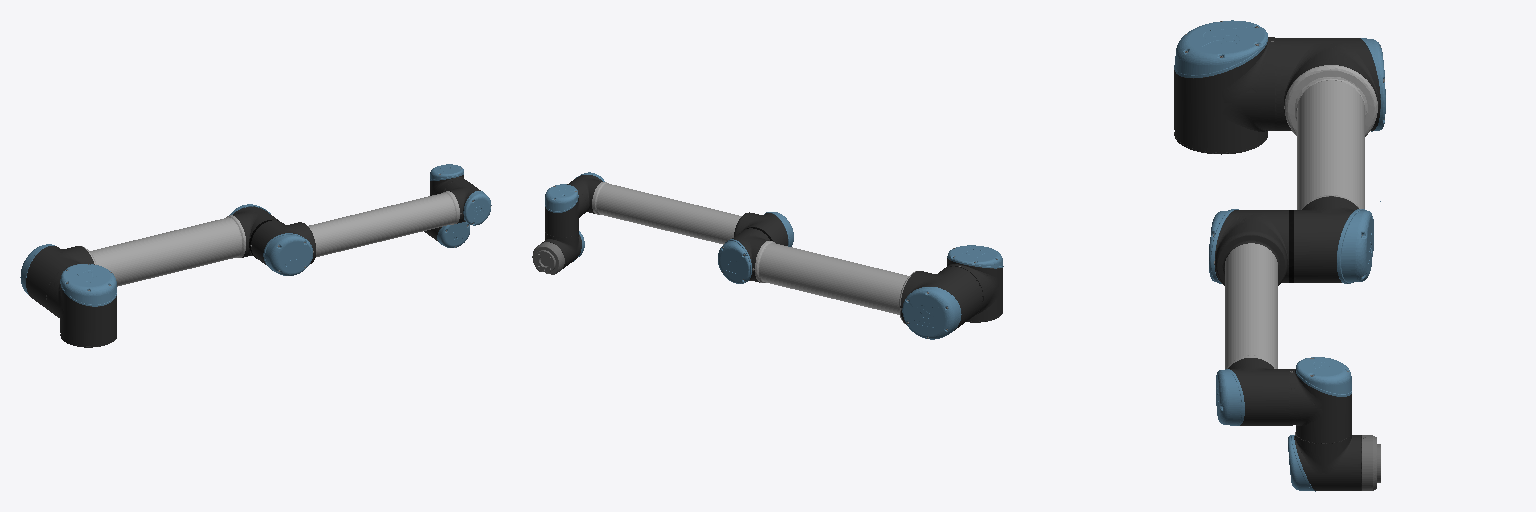
The robot description file, URDF, robot "ur10":
<?xml version="1.0" ?>
<!-- =================================================================================== -->
<!-- |    This document was autogenerated by xacro from urdf/ur10_robot.urdf.xacro     | -->
<!-- |    EDITING THIS FILE BY HAND IS NOT RECOMMENDED                                 | -->
<!-- =================================================================================== -->
<robot name="ur10" xmlns:xacro="http://www.ros.org/wiki/xacro">
  <!-- common stuff -->
  <gazebo>
    <plugin filename="libgazebo_ros_control.so" name="ros_control">
      <!--robotNamespace>/</robotNamespace-->
      <!--robotSimType>gazebo_ros_control/DefaultRobotHWSim</robotSimType-->
    </plugin>
    <!--
    <plugin name="gazebo_ros_power_monitor_controller" filename="libgazebo_ros_power_monitor.so">
      <alwaysOn>true</alwaysOn>
      <updateRate>1.0</updateRate>
      <timeout>5</timeout>
      <powerStateTopic>power_state</powerStateTopic>
      <powerStateRate>10.0</powerStateRate>
      <fullChargeCapacity>87.78</fullChargeCapacity>
      <dischargeRate>-474</dischargeRate>
      <chargeRate>525</chargeRate>
      <dischargeVoltage>15.52</dischargeVoltage>
      <chargeVoltage>16.41</chargeVoltage>
    </plugin>
-->
  </gazebo>
  <!-- ur10 -->
  <!-- arm -->
  <link name="base_link">
    <visual>
      <geometry>
        <mesh filename="../../models/ur10/visual/base.dae"/>
      </geometry>
    </visual>
    <collision>
      <geometry>
        <mesh filename="../../models/ur10/collision/base.stl"/>
      </geometry>
    </collision>
    <inertial>
      <mass value="4.0"/>
      <origin rpy="0 0 0" xyz="0.0 0.0 0.0"/>
      <inertia ixx="0.0061063308908" ixy="0.0" ixz="0.0" iyy="0.0061063308908" iyz="0.0" izz="0.01125"/>
    </inertial>
  </link>
  <joint name="shoulder_pan_joint" type="revolute">
    <parent link="base_link"/>
    <child link="shoulder_link"/>
    <origin rpy="0.0 0.0 0.0" xyz="0.0 0.0 0.1273"/>
    <axis xyz="0 0 1"/>
    <limit effort="330.0" lower="-6.2831853" upper="6.2831853" velocity="2.16"/>
    <dynamics damping="0.0" friction="0.0"/>
  </joint>
  <link name="shoulder_link">
    <visual>
      <geometry>
        <mesh filename="../../models/ur10/visual/shoulder.dae"/>
      </geometry>
    </visual>
    <collision>
      <geometry>
        <mesh filename="../../models/ur10/collision/shoulder.stl"/>
      </geometry>
    </collision>
    <inertial>
      <mass value="7.778"/>
      <origin rpy="0 0 0" xyz="0.0 0.0 0.0"/>
      <inertia ixx="0.0314743125769" ixy="0.0" ixz="0.0" iyy="0.0314743125769" iyz="0.0" izz="0.021875625"/>
    </inertial>
  </link>
  <joint name="shoulder_lift_joint" type="revolute">
    <parent link="shoulder_link"/>
    <child link="upper_arm_link"/>
    <origin rpy="0.0 1.570796325 0.0" xyz="0.0 0.220941 0.0"/>
    <axis xyz="0 1 0"/>
    <limit effort="330.0" lower="-6.2831853" upper="6.2831853" velocity="2.16"/>
    <dynamics damping="0.0" friction="0.0"/>
  </joint>
  <link name="upper_arm_link">
    <visual>
      <geometry>
        <mesh filename="../../models/ur10/visual/upperarm.dae"/>
      </geometry>
    </visual>
    <collision>
      <geometry>
        <mesh filename="../../models/ur10/collision/upperarm.stl"/>
      </geometry>
    </collision>
    <inertial>
      <mass value="12.93"/>
      <origin rpy="0 0 0" xyz="0.0 0.0 0.306"/>
      <inertia ixx="0.421753803798" ixy="0.0" ixz="0.0" iyy="0.421753803798" iyz="0.0" izz="0.036365625"/>
    </inertial>
  </link>
  <joint name="elbow_joint" type="revolute">
    <parent link="upper_arm_link"/>
    <child link="forearm_link"/>
    <origin rpy="0.0 0.0 0.0" xyz="0.0 -0.1719 0.612"/>
    <axis xyz="0 1 0"/>
    <limit effort="150.0" lower="-6.2831853" upper="6.2831853" velocity="3.15"/>
    <dynamics damping="0.0" friction="0.0"/>
  </joint>
  <link name="forearm_link">
    <visual>
      <geometry>
        <mesh filename="../../models/ur10/visual/forearm.dae"/>
      </geometry>
    </visual>
    <collision>
      <geometry>
        <mesh filename="../../models/ur10/collision/forearm.stl"/>
      </geometry>
    </collision>
    <inertial>
      <mass value="3.87"/>
      <origin rpy="0 0 0" xyz="0.0 0.0 0.28615"/>
      <inertia ixx="0.111069694097" ixy="0.0" ixz="0.0" iyy="0.111069694097" iyz="0.0" izz="0.010884375"/>
    </inertial>
  </link>
  <joint name="wrist_1_joint" type="revolute">
    <parent link="forearm_link"/>
    <child link="wrist_1_link"/>
    <origin rpy="0.0 1.570796325 0.0" xyz="0.0 0.0 0.5723"/>
    <axis xyz="0 1 0"/>
    <limit effort="54.0" lower="-6.2831853" upper="6.2831853" velocity="3.2"/>
    <dynamics damping="0.0" friction="0.0"/>
  </joint>
  <link name="wrist_1_link">
    <visual>
      <geometry>
        <mesh filename="../../models/ur10/visual/wrist1.dae"/>
      </geometry>
    </visual>
    <collision>
      <geometry>
        <mesh filename="../../models/ur10/collision/wrist1.stl"/>
      </geometry>
    </collision>
    <inertial>
      <mass value="1.96"/>
      <origin rpy="0 0 0" xyz="0.0 0.0 0.0"/>
      <inertia ixx="0.0051082479567" ixy="0.0" ixz="0.0" iyy="0.0051082479567" iyz="0.0" izz="0.0055125"/>
    </inertial>
  </link>
  <joint name="wrist_2_joint" type="revolute">
    <parent link="wrist_1_link"/>
    <child link="wrist_2_link"/>
    <origin rpy="0.0 0.0 0.0" xyz="0.0 0.1149 0.0"/>
    <axis xyz="0 0 1"/>
    <limit effort="54.0" lower="-6.2831853" upper="6.2831853" velocity="3.2"/>
    <dynamics damping="0.0" friction="0.0"/>
  </joint>
  <link name="wrist_2_link">
    <visual>
      <geometry>
        <mesh filename="../../models/ur10/visual/wrist2.dae"/>
      </geometry>
    </visual>
    <collision>
      <geometry>
        <mesh filename="../../models/ur10/collision/wrist2.stl"/>
      </geometry>
    </collision>
    <inertial>
      <mass value="1.96"/>
      <origin rpy="0 0 0" xyz="0.0 0.0 0.0"/>
      <inertia ixx="0.0051082479567" ixy="0.0" ixz="0.0" iyy="0.0051082479567" iyz="0.0" izz="0.0055125"/>
    </inertial>
  </link>
  <joint name="wrist_3_joint" type="revolute">
    <parent link="wrist_2_link"/>
    <child link="wrist_3_link"/>
    <origin rpy="0.0 0.0 0.0" xyz="0.0 0.0 0.1157"/>
    <axis xyz="0 1 0"/>
    <limit effort="54.0" lower="-6.2831853" upper="6.2831853" velocity="3.2"/>
    <dynamics damping="0.0" friction="0.0"/>
  </joint>
  <link name="wrist_3_link">
    <visual>
      <geometry>
        <mesh filename="../../models/ur10/visual/wrist3.dae"/>
      </geometry>
    </visual>
    <collision>
      <geometry>
        <mesh filename="../../models/ur10/collision/wrist3.stl"/>
      </geometry>
    </collision>
    <inertial>
      <mass value="0.202"/>
      <origin rpy="0 0 0" xyz="0.0 0.0 0.0"/>
      <inertia ixx="0.000526462289415" ixy="0.0" ixz="0.0" iyy="0.000526462289415" iyz="0.0" izz="0.000568125"/>
    </inertial>
  </link>
  <joint name="ee_fixed_joint" type="fixed">
    <parent link="wrist_3_link"/>
    <child link="ee_link"/>
    <origin rpy="0.0 0.0 1.570796325" xyz="0.0 0.0922 0.0"/>
  </joint>
  <link name="ee_link"/>
  <transmission name="shoulder_pan_trans">
    <type>transmission_interface/SimpleTransmission</type>
    <joint name="shoulder_pan_joint"/>
    <actuator name="shoulder_pan_motor">
      <hardwareInterface>EffortJointInterface</hardwareInterface>
      <mechanicalReduction>1</mechanicalReduction>
    </actuator>
  </transmission>
  <transmission name="shoulder_lift_trans">
    <type>transmission_interface/SimpleTransmission</type>
    <joint name="shoulder_lift_joint"/>
    <actuator name="shoulder_lift_motor">
      <hardwareInterface>EffortJointInterface</hardwareInterface>
      <mechanicalReduction>1</mechanicalReduction>
    </actuator>
  </transmission>
  <transmission name="elbow_trans">
    <type>transmission_interface/SimpleTransmission</type>
    <joint name="elbow_joint"/>
    <actuator name="elbow_motor">
      <hardwareInterface>EffortJointInterface</hardwareInterface>
      <mechanicalReduction>1</mechanicalReduction>
    </actuator>
  </transmission>
  <transmission name="wrist_1_trans">
    <type>transmission_interface/SimpleTransmission</type>
    <joint name="wrist_1_joint"/>
    <actuator name="wrist_1_motor">
      <hardwareInterface>EffortJointInterface</hardwareInterface>
      <mechanicalReduction>1</mechanicalReduction>
    </actuator>
  </transmission>
  <transmission name="wrist_2_trans">
    <type>transmission_interface/SimpleTransmission</type>
    <joint name="wrist_2_joint"/>
    <actuator name="wrist_2_motor">
      <hardwareInterface>EffortJointInterface</hardwareInterface>
      <mechanicalReduction>1</mechanicalReduction>
    </actuator>
  </transmission>
  <transmission name="wrist_3_trans">
    <type>transmission_interface/SimpleTransmission</type>
    <joint name="wrist_3_joint"/>
    <actuator name="wrist_3_motor">
      <hardwareInterface>EffortJointInterface</hardwareInterface>
      <mechanicalReduction>1</mechanicalReduction>
    </actuator>
  </transmission>
  <link name="world"/>
  <joint name="world_joint" type="fixed">
    <parent link="world"/>
    <child link="base_link"/>
    <origin rpy="0.0 0.0 0.0" xyz="0.0 0.0 1.0"/>
  </joint>
</robot>

--- Facts derived from the render (not from the file) ---
Views: 3 orthographic renders of the robot side by side, from view 1: azimuth 30°, elevation 25°; view 2: azimuth 150°, elevation 25°; view 3: azimuth 270°, elevation 25°.
Robot: ur10 — 9 links, 8 joints (6 revolute, 2 fixed); root link world; default pose: every joint at zero.
Links seen in each view (by area): view 1: upper_arm_link, forearm_link, shoulder_link, wrist_2_link, wrist_1_link; view 2: upper_arm_link, forearm_link, shoulder_link, wrist_1_link, wrist_3_link, wrist_2_link; view 3: upper_arm_link, forearm_link, shoulder_link, wrist_1_link, wrist_2_link, wrist_3_link.
Boxes of the visible links, x1,y1,x2,y2 form: upper_arm_link: (20,204,278,312); forearm_link: (249,179,491,275); shoulder_link: (48,264,116,347); wrist_2_link: (424,222,469,247); wrist_1_link: (430,164,463,195); upper_arm_link: (718,228,982,339); forearm_link: (567,172,793,246); shoulder_link: (944,245,1003,322); wrist_1_link: (545,184,585,237); wrist_3_link: (532,242,564,274); wrist_2_link: (542,231,584,268); upper_arm_link: (1275,38,1385,283); forearm_link: (1209,209,1293,425); shoulder_link: (1174,20,1274,154); wrist_1_link: (1290,357,1351,443); wrist_2_link: (1288,432,1361,491); wrist_3_link: (1362,435,1380,490).
Bounding box of the posed robot: 1.31 × 0.3383 × 0.2635 m (x, y, z).
Meshes: 7 distinct files referenced, 6 mesh visuals loaded (6 Collada DAE); not drawn: 1 (reference not matched to a file when rendering).